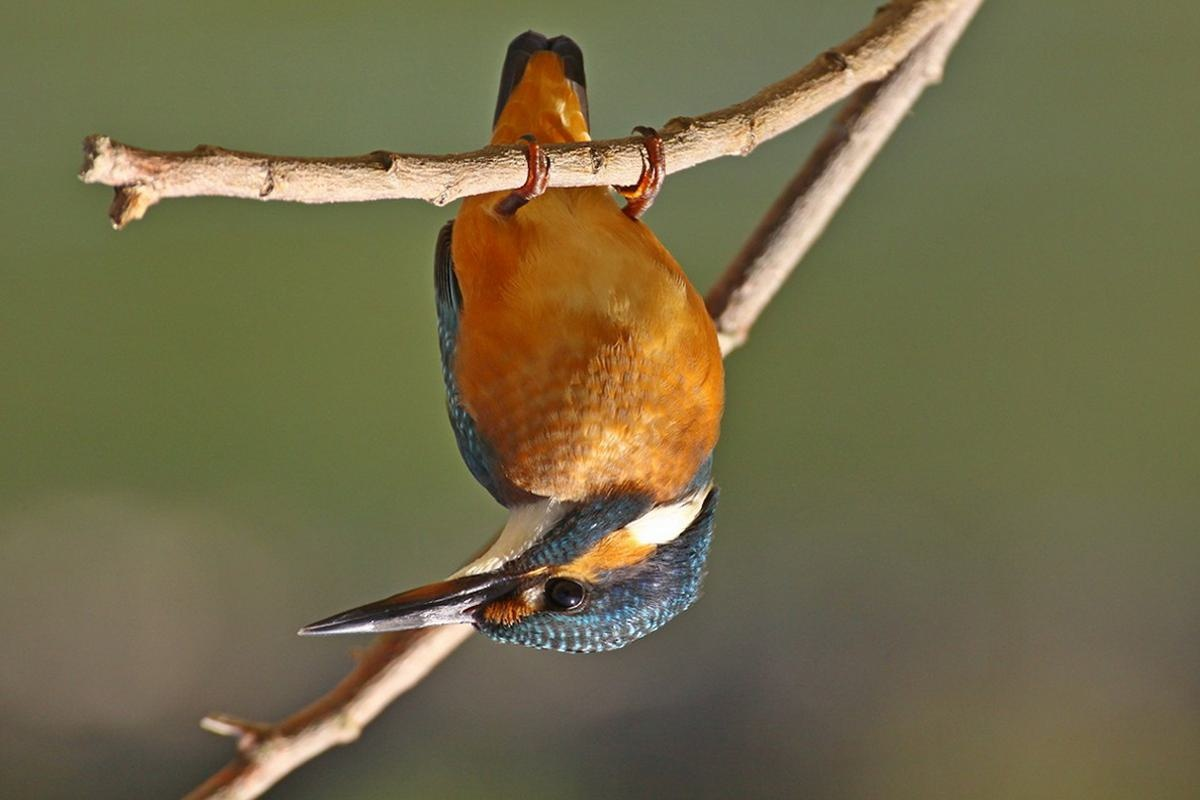kingfisher: (303, 20, 743, 653)
